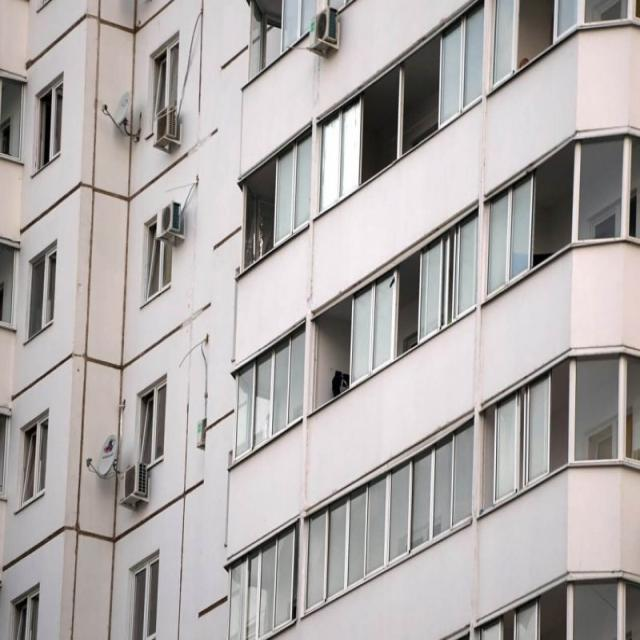Window: (320, 454, 471, 536), (238, 337, 300, 432), (424, 221, 471, 321), (500, 389, 542, 486), (446, 8, 484, 112), (488, 185, 531, 274), (353, 287, 392, 377), (322, 102, 358, 198), (278, 132, 312, 232), (26, 250, 57, 332), (21, 417, 48, 505), (140, 381, 167, 459), (152, 40, 182, 103), (588, 414, 627, 461), (134, 564, 160, 632), (594, 196, 634, 239), (147, 237, 174, 300), (492, 5, 514, 79), (13, 592, 41, 634), (588, 2, 632, 28), (38, 128, 62, 174), (284, 3, 309, 43), (3, 118, 14, 156)
